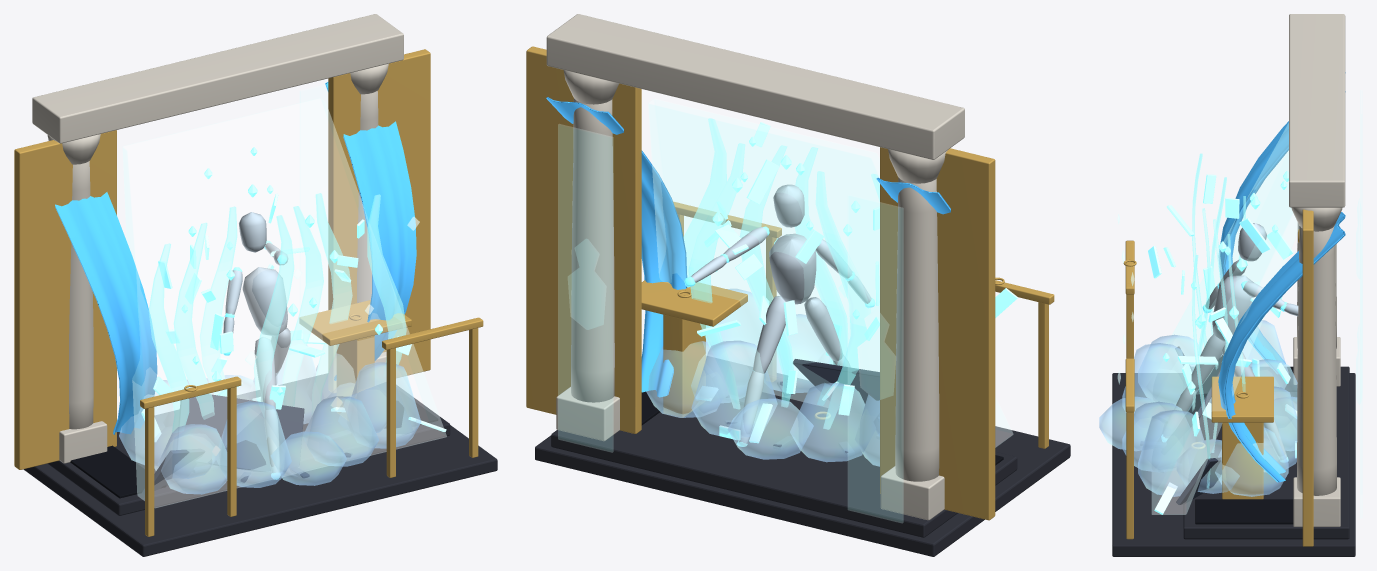
File: webtoon-vrm-pose-portal-stride-132cm-v28.glb
The picture shows the model from 3 angles, left to right: view 1: azimuth 30°, elevation 25°; view 2: azimuth 150°, elevation 25°; view 3: azimuth 270°, elevation 25°; orthographic projection. The views are drawn at different scales.
Parts seen in each view (by area): view 1: Volumetric_V28Pose3_Stride_GodRaySlit, Articulated_V28Pose3_Stride_DoorsAndIkRig, V28Pose3_Stride_PortalColonnade, V28Pose3_Stride_DatumDeck, AftermathDust_V28Pose3_Stride_PlumeLobes, WindDrape_V28Pose3_Stride_CatenaryPair, ThermalHaze_V28Pose3_Stride_ConvectiveRibbons, Aftermath_V28Pose3_Stride_DatumProps, VrmMannequin_V28Pose3_Stride_Humanoid8Head, Aftermath_V28Pose3_Stride_PrismShards, ShadowDrift_V28Pose3_Stride_UmbraMask, Atmospheric_V28Pose3_Stride_MidMotes; view 2: Articulated_V28Pose3_Stride_DoorsAndIkRig, V28Pose3_Stride_PortalColonnade, Volumetric_V28Pose3_Stride_GodRaySlit, HalfMirror_V28Pose3_Stride_FresnelReflection, V28Pose3_Stride_DatumDeck, AftermathDust_V28Pose3_Stride_PlumeLobes, ThermalHaze_V28Pose3_Stride_ConvectiveRibbons, VrmMannequin_V28Pose3_Stride_Humanoid8Head, WindDrape_V28Pose3_Stride_CatenaryPair, Aftermath_V28Pose3_Stride_PrismShards, Aftermath_V28Pose3_Stride_DatumProps, Atmospheric_V28Pose3_Stride_MidMotes; view 3: V28Pose3_Stride_PortalColonnade, V28Pose3_Stride_DatumDeck, AftermathDust_V28Pose3_Stride_PlumeLobes, Volumetric_V28Pose3_Stride_GodRaySlit, Articulated_V28Pose3_Stride_DoorsAndIkRig, WindDrape_V28Pose3_Stride_CatenaryPair, VrmMannequin_V28Pose3_Stride_Humanoid8Head, Aftermath_V28Pose3_Stride_PrismShards, ThermalHaze_V28Pose3_Stride_ConvectiveRibbons, ShadowDrift_V28Pose3_Stride_UmbraMask, Aftermath_V28Pose3_Stride_DatumProps, HalfMirror_V28Pose3_Stride_FresnelReflection (+1 smaller).
Part boxes in pixels (<box>): Volumetric_V28Pose3_Stride_GodRaySlit: <box>123,98,446,507</box>; Articulated_V28Pose3_Stride_DoorsAndIkRig: <box>14,49,483,536</box>; V28Pose3_Stride_PortalColonnade: <box>32,14,403,463</box>; V28Pose3_Stride_DatumDeck: <box>23,373,497,556</box>; AftermathDust_V28Pose3_Stride_PlumeLobes: <box>119,345,420,494</box>; WindDrape_V28Pose3_Stride_CatenaryPair: <box>55,82,416,434</box>; ThermalHaze_V28Pose3_Stride_ConvectiveRibbons: <box>148,193,406,432</box>; Aftermath_V28Pose3_Stride_DatumProps: <box>142,382,413,494</box>; VrmMannequin_V28Pose3_Stride_Humanoid8Head: <box>223,212,290,472</box>; Aftermath_V28Pose3_Stride_PrismShards: <box>141,193,446,441</box>; ShadowDrift_V28Pose3_Stride_UmbraMask: <box>70,391,438,498</box>; Atmospheric_V28Pose3_Stride_MidMotes: <box>182,147,382,395</box>; Articulated_V28Pose3_Stride_DoorsAndIkRig: <box>526,46,1054,520</box>; V28Pose3_Stride_PortalColonnade: <box>546,14,964,520</box>; Volumetric_V28Pose3_Stride_GodRaySlit: <box>648,99,1013,447</box>; HalfMirror_V28Pose3_Stride_FresnelReflection: <box>558,124,903,522</box>; V28Pose3_Stride_DatumDeck: <box>535,366,1070,556</box>; AftermathDust_V28Pose3_Stride_PlumeLobes: <box>646,289,879,466</box>; ThermalHaze_V28Pose3_Stride_ConvectiveRibbons: <box>683,118,879,429</box>; VrmMannequin_V28Pose3_Stride_Humanoid8Head: <box>691,184,871,443</box>; WindDrape_V28Pose3_Stride_CatenaryPair: <box>546,97,950,397</box>; Aftermath_V28Pose3_Stride_PrismShards: <box>697,122,1017,443</box>; Aftermath_V28Pose3_Stride_DatumProps: <box>725,359,879,456</box>; Atmospheric_V28Pose3_Stride_MidMotes: <box>712,136,860,318</box>; V28Pose3_Stride_PortalColonnade: <box>1289,14,1345,526</box>; V28Pose3_Stride_DatumDeck: <box>1112,366,1355,556</box>; AftermathDust_V28Pose3_Stride_PlumeLobes: <box>1099,320,1297,496</box>; Volumetric_V28Pose3_Stride_GodRaySlit: <box>1152,123,1299,514</box>; Articulated_V28Pose3_Stride_DoorsAndIkRig: <box>1123,209,1313,546</box>; WindDrape_V28Pose3_Stride_CatenaryPair: <box>1218,72,1345,482</box>; VrmMannequin_V28Pose3_Stride_Humanoid8Head: <box>1163,223,1298,457</box>; Aftermath_V28Pose3_Stride_PrismShards: <box>1148,174,1297,514</box>; ThermalHaze_V28Pose3_Stride_ConvectiveRibbons: <box>1192,153,1245,488</box>; ShadowDrift_V28Pose3_Stride_UmbraMask: <box>1195,367,1296,524</box>; Aftermath_V28Pose3_Stride_DatumProps: <box>1141,346,1222,504</box>; HalfMirror_V28Pose3_Stride_FresnelReflection: <box>1356,90,1362,518</box>.
Size of the model in its own units: 3.2 by 2.78 by 1.78.
